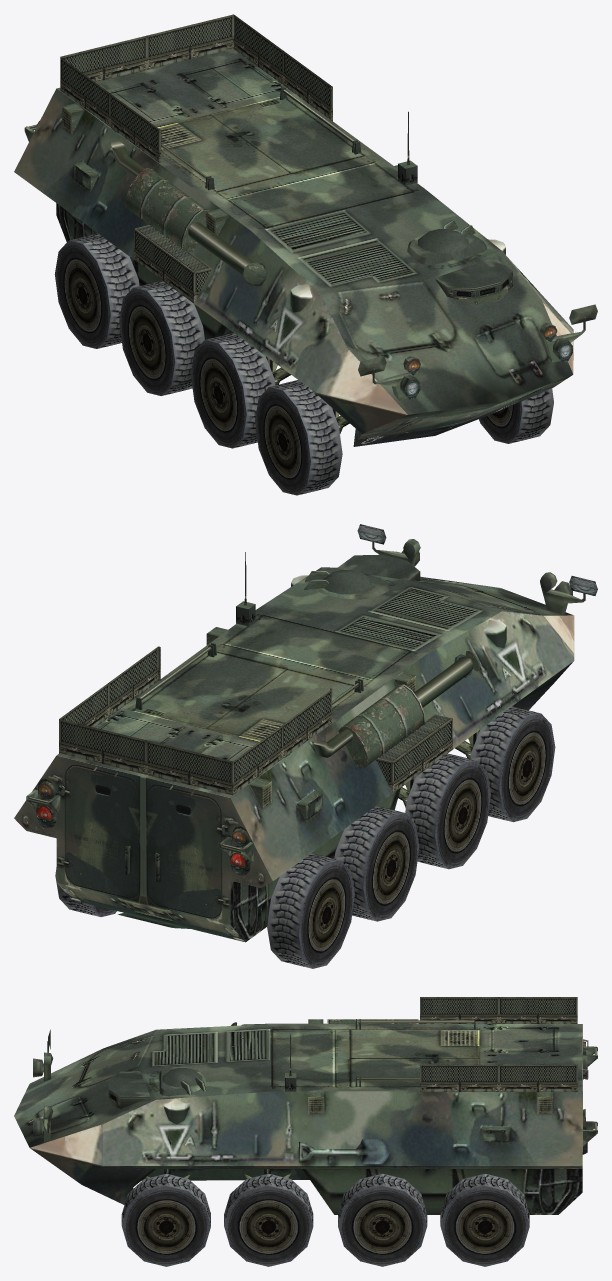
The model's file is fLAV.glb.
The picture shows the model from 3 angles, top to bottom: view 1: azimuth 30°, elevation 25°; view 2: azimuth 150°, elevation 25°; view 3: azimuth 270°, elevation 25°; orthographic projection. The views are drawn at different scales.
Visible parts, largest first — view 1: _fLAV; view 2: _fLAV; view 3: _fLAV.
Part boxes in pixels (box(x1,y1,x2,y2)): _fLAV: box(14, 14, 597, 495); _fLAV: box(14, 524, 597, 968); _fLAV: box(14, 997, 597, 1266).
Bounding box in the file's own units: 3.19 × 3.23 × 7.85.
2 materials, 2 textured.
